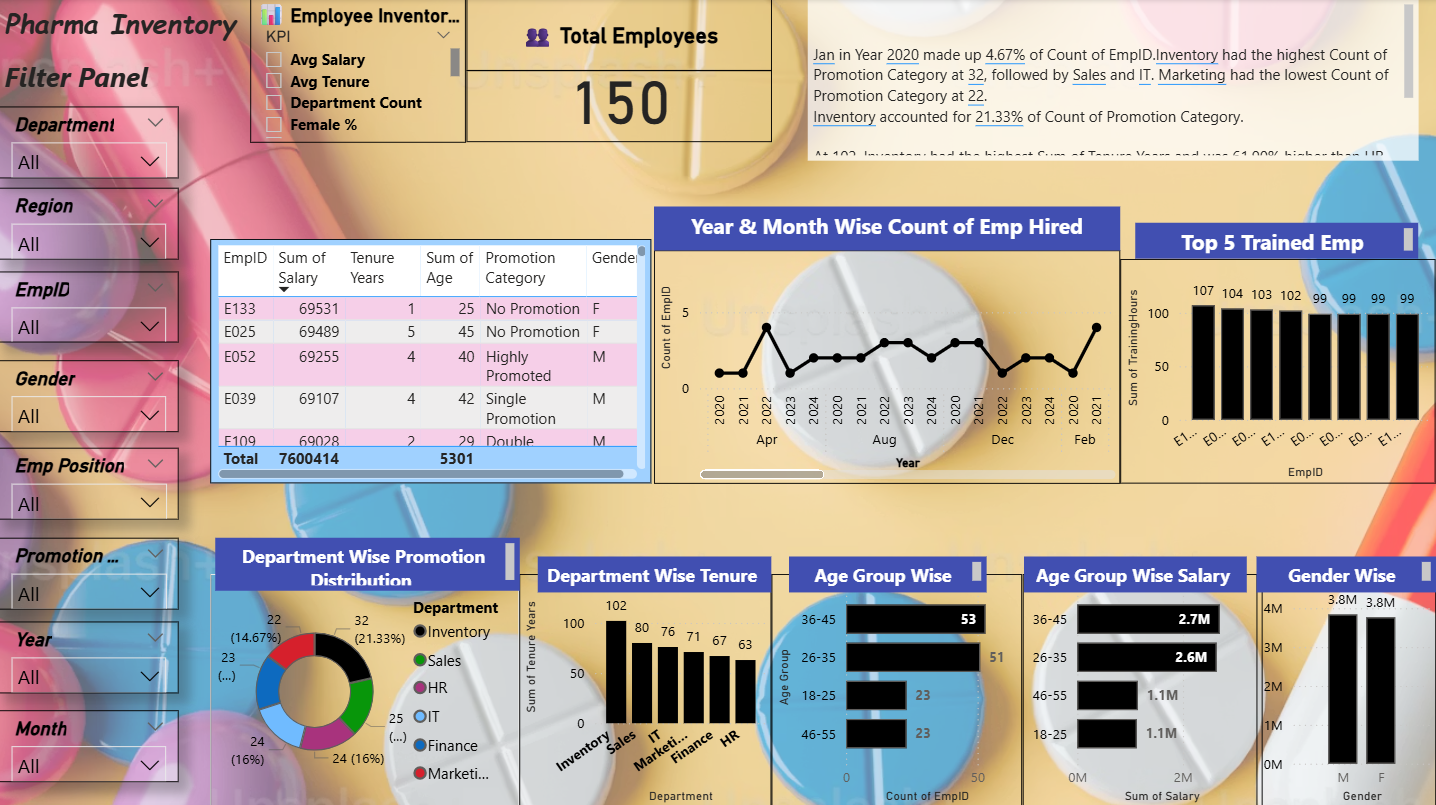

This screenshot's page, from the dashboard's own definition file:
{"tool":"powerbi","page":{"name":"Emp","canvas":[1280,720],"ordinal":0},"visuals":[{"type":"textbox","box":[0,0,240,48],"z":0},{"type":"textbox","box":[0,48,176,48],"z":1000},{"type":"slicer","fields":{"Values":["Employee_Master.Department"]},"box":[0,96,160,64],"z":2000},{"type":"slicer","fields":{"Values":["Employee_Master.Region"]},"box":[0,167.7,159.8,64.1],"z":3000},{"type":"slicer","fields":{"Values":["Employee_Master.EmpID"]},"box":[0,242.3,159.8,63.2],"z":4000},{"type":"slicer","fields":{"Values":["Employee_Master.Gender"]},"box":[0,321.4,159.8,64.1],"z":5000},{"type":"slicer","fields":{"Values":["Employee_Master.Emp Position"]},"box":[0,400,160,64],"z":6000},{"type":"slicer","fields":{"Values":["Employee_Master.Promotion Category"]},"box":[0,480,160,64],"z":7000},{"type":"slicer","fields":{"Values":["Date Table.Year"]},"box":[0,554,159.8,64.1],"z":8000},{"type":"slicer","fields":{"Values":["Date Table.Month"]},"box":[0,634,159.8,64.1],"z":9000},{"type":"columnChart","fields":{"Y":["Sum(Employee_Master.Tenure Years)"],"Category":["Employee_Master.Department"]},"box":[463.6,511.9,224.8,208.1],"z":10000},{"type":"donutChart","fields":{"Y":["CountNonNull(Employee_Master.Promotion Category)"],"Category":["Employee_Master.Department"]},"box":[187.9,511.9,275.7,208.1],"z":11000},{"type":"slicer","fields":{"Values":["Toggle_KPI.KPI"]},"box":[224,0,192,128],"z":12000},{"type":"card","fields":{"Values":["Employee_Master.Dynamic KPI Value"]},"box":[416,64,272,64],"z":13000},{"type":"card","fields":{"Values":["Employee_Master.Dynamic KPI Title"]},"box":[416,0,272,64],"z":14000},{"type":"barChart","fields":{"Y":["CountNonNull(Employee_Master.EmpID)"],"Category":["Employee_Master.Age Group"]},"box":[688.4,511.9,223,208.1],"z":15000},{"type":"barChart","fields":{"Category":["Employee_Master.Age Group"],"Y":["Sum(Employee_Master.Salary)"]},"box":[911.4,511.9,213.4,208.1],"z":16000},{"type":"tableEx","fields":{"Values":["Employee_Master.EmpID","Sum(Employee_Master.Salary)","Employee_Master.Tenure Years","Sum(Employee_Master.Age)","Employee_Master.Promotion Category","Employee_Master.Gender"]},"box":[187.7,214,392.9,217.9],"z":17000},{"type":"lineChart","fields":{"Category":["Date Table.Month","Date Table.Date.Variation.Date Hierarchy.Year"],"Y":["CountNonNull(Employee_Master.EmpID)"]},"box":[583.6,223.7,415.3,208.1],"z":18000},{"type":"textbox","box":[720,0,544,144],"z":19000},{"type":"columnChart","fields":{"Category":["Employee_Master.Gender"],"Y":["Sum(Employee_Master.Salary)"]},"box":[1120.4,511.9,159.8,208.1],"z":20000},{"type":"textbox","box":[583.6,184.8,415.3,38.9],"z":21000},{"type":"textbox","box":[704,496,176,32],"z":22000},{"type":"textbox","box":[192.3,480.3,271.3,47.4],"z":23000},{"type":"textbox","box":[480,496,208,32],"z":24000},{"type":"textbox","box":[1120.4,496.1,159.8,31.6],"z":25000},{"type":"textbox","box":[912.3,496.1,198.4,31.6],"z":26000},{"type":"columnChart","fields":{"Category":["Employee_Master.EmpID"],"Y":["Sum(Employee_Performance.TrainingHours)"]},"box":[998.9,231.5,281.1,200.4],"z":27000},{"type":"textbox","box":[1011.6,199.4,251.9,32.1],"z":28000}]}

Visuals, with their boxes in screenshot pixels (x1, y1, x2, y2), scaled from the page's 1280x720 canvas onto the 1436x805 screenshot:
textbox: 0:0:269:54
textbox: 0:54:197:107
slicer - Employee_Master.Department: 0:107:180:179
slicer - Employee_Master.Region: 0:187:179:259
slicer - Employee_Master.EmpID: 0:271:179:342
slicer - Employee_Master.Gender: 0:359:179:431
slicer - Employee_Master.Emp Position: 0:447:180:519
slicer - Employee_Master.Promotion Category: 0:537:180:608
slicer - Date Table.Year: 0:619:179:691
slicer - Date Table.Month: 0:709:179:781
columnChart - Sum(Employee_Master.Tenure Years) x Employee_Master.Department: 520:572:772:804
donutChart - CountNonNull(Employee_Master.Promotion Category) x Employee_Master.Department: 211:572:520:804
slicer - Toggle_KPI.KPI: 251:0:467:143
card - Employee_Master.Dynamic KPI Value: 467:72:772:143
card - Employee_Master.Dynamic KPI Title: 467:0:772:72
barChart - CountNonNull(Employee_Master.EmpID) x Employee_Master.Age Group: 772:572:1022:804
barChart - Employee_Master.Age Group x Sum(Employee_Master.Salary): 1022:572:1262:804
tableEx - Employee_Master.EmpID x Sum(Employee_Master.Salary): 211:239:651:483
lineChart - Date Table.Month x Date Table.Date.Variation.Date Hierarchy.Year: 655:250:1121:483
textbox: 808:0:1418:161
columnChart - Employee_Master.Gender x Sum(Employee_Master.Salary): 1257:572:1435:804
textbox: 655:207:1121:250
textbox: 790:555:987:590
textbox: 216:537:520:590
textbox: 538:555:772:590
textbox: 1257:555:1435:590
textbox: 1023:555:1246:590
columnChart - Employee_Master.EmpID x Sum(Employee_Performance.TrainingHours): 1121:259:1435:483
textbox: 1135:223:1417:259
